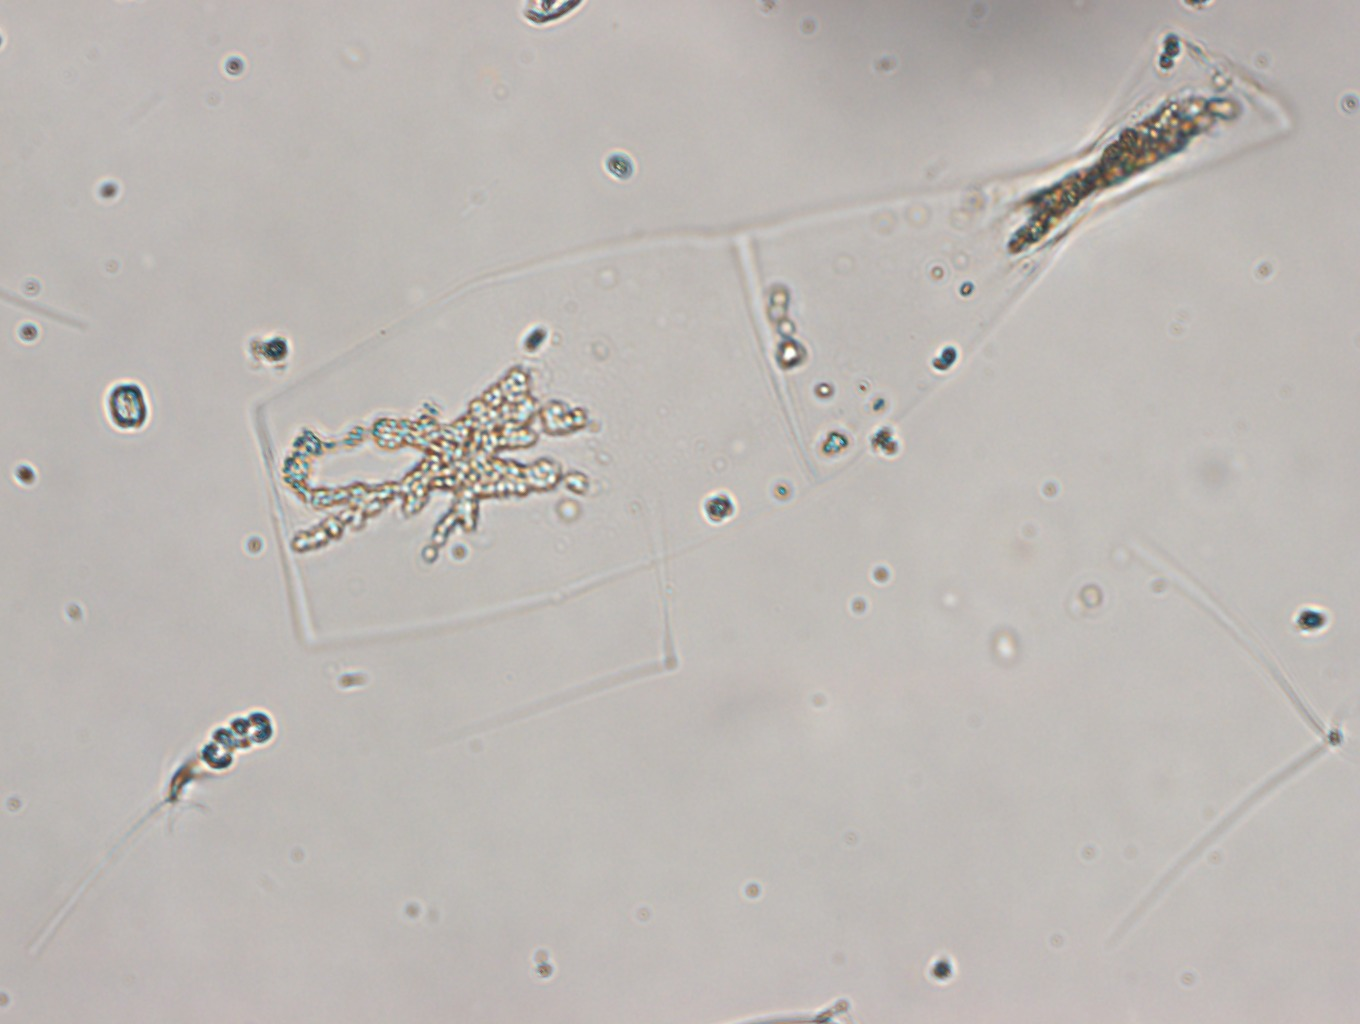helicotheca: (223, 40, 1316, 653)
